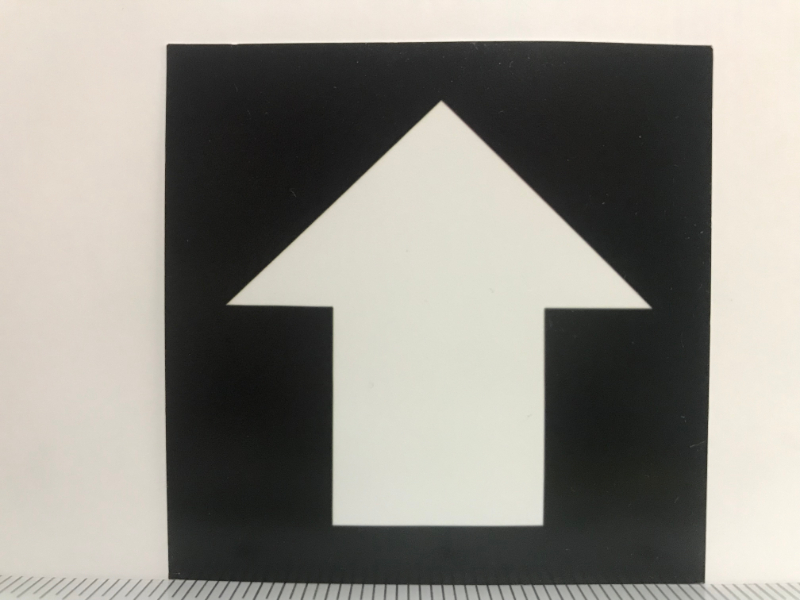UA-1: (169, 45, 705, 579)
